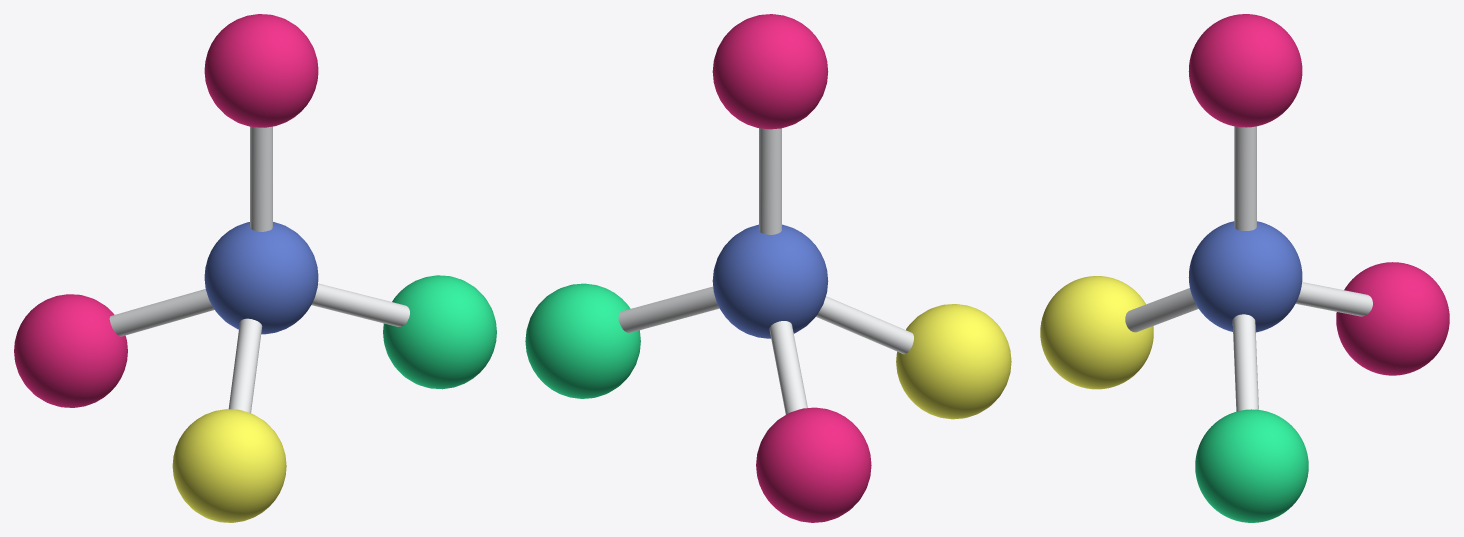
Rendered from asset.glb.
3 views of the same model, side by side, from view 1: azimuth 30°, elevation 25°; view 2: azimuth 150°, elevation 25°; view 3: azimuth 270°, elevation 25° (orthographic).
Visible parts, largest first — view 1: 3DGeom-6 (×3), 3DGeom-2, 3DGeom-1; view 2: 3DGeom-6 (×3), 3DGeom-2, 3DGeom-1; view 3: 3DGeom-6 (×3), 3DGeom-2, 3DGeom-1.
Boxes of the visible parts, x1,y1,x2,y2 form: 3DGeom-6 (×3): (172,222,496,522); 3DGeom-2: (14,14,318,407); 3DGeom-1: (109,126,409,413); 3DGeom-6 (×3): (525,224,1011,419); 3DGeom-2: (712,14,871,522); 3DGeom-1: (618,128,913,414); 3DGeom-6 (×3): (1040,221,1308,522); 3DGeom-2: (1188,14,1449,375); 3DGeom-1: (1125,126,1372,411).
Bounding box in the file's own units: 0.8042 × 0.8092 × 0.7207.
